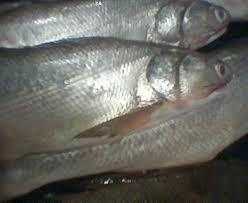Tenpounder: (3, 39, 231, 147), (0, 1, 239, 47)
